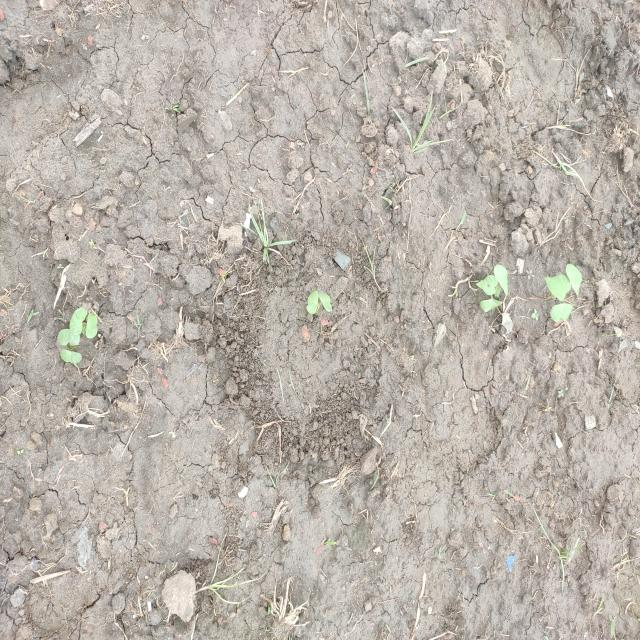seedling_s4: (543, 275, 571, 302), (566, 263, 583, 295), (69, 307, 87, 335), (475, 275, 498, 296), (550, 303, 573, 322), (494, 264, 508, 295), (58, 329, 80, 346), (479, 298, 503, 312), (60, 349, 82, 364), (86, 312, 98, 339), (306, 290, 318, 315), (318, 293, 332, 312)
